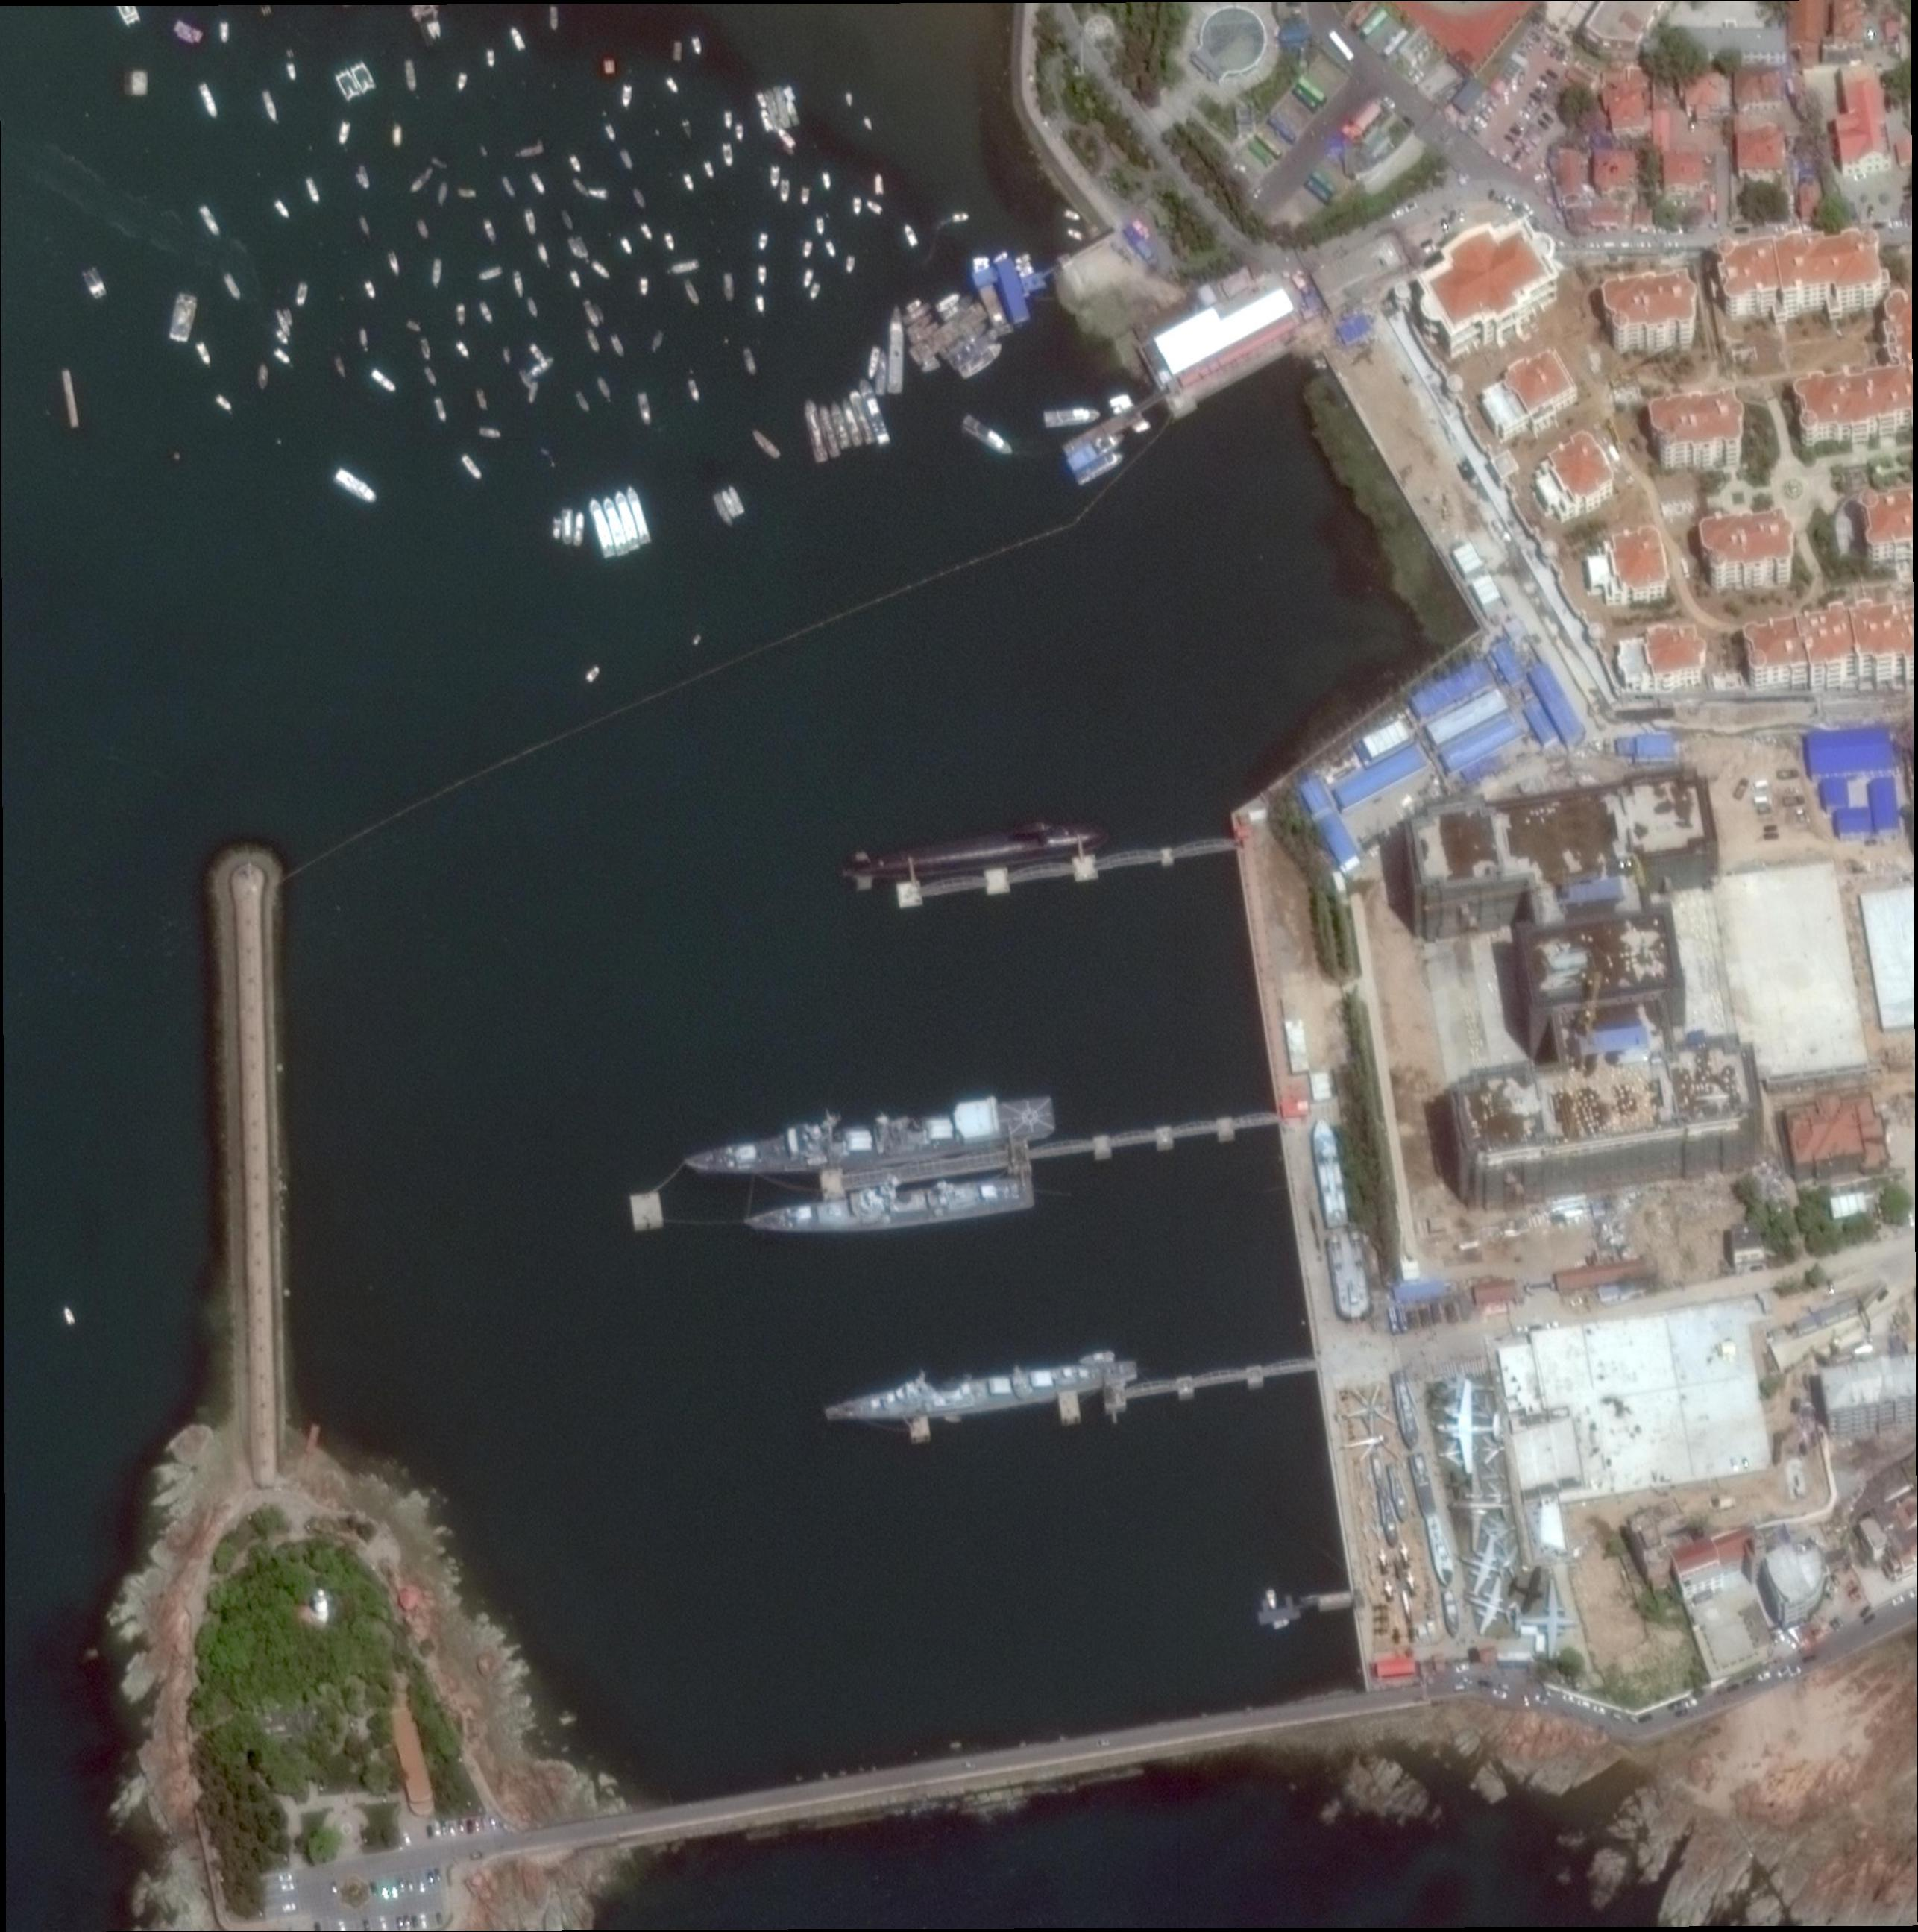harbor: (209, 838, 292, 1416), (818, 1103, 1280, 1198), (896, 831, 1237, 908), (1101, 1354, 1317, 1412), (1061, 390, 1166, 457)
plane: (1438, 1379, 1503, 1472), (1514, 1579, 1577, 1663), (1451, 1465, 1509, 1554), (1460, 1570, 1523, 1642), (1453, 1530, 1516, 1600), (1503, 1556, 1553, 1621)
ship: (683, 1096, 1056, 1191), (824, 1351, 1140, 1433), (841, 815, 1112, 894), (741, 1171, 1035, 1240), (1310, 1121, 1351, 1229), (1328, 1233, 1372, 1324), (959, 411, 1017, 460), (1066, 430, 1128, 472), (1424, 1512, 1458, 1588), (947, 327, 1001, 372), (1389, 1370, 1421, 1447), (857, 378, 890, 446), (957, 339, 1006, 381), (1073, 448, 1126, 487), (940, 321, 989, 362), (587, 495, 616, 559), (803, 397, 831, 464), (601, 495, 631, 555), (613, 490, 643, 550), (847, 388, 876, 448), (1409, 1453, 1437, 1516), (625, 485, 653, 544), (335, 469, 379, 506), (887, 306, 905, 393), (169, 292, 198, 342), (817, 404, 841, 458), (840, 399, 866, 448), (829, 399, 854, 450), (348, 60, 378, 97), (940, 292, 977, 321), (750, 430, 782, 460), (1043, 411, 1101, 427), (1442, 1591, 1461, 1637), (910, 318, 940, 346), (409, 165, 436, 197), (335, 68, 360, 102), (198, 81, 220, 119), (83, 267, 107, 299), (711, 492, 732, 527), (773, 86, 790, 128), (527, 355, 557, 379), (198, 205, 223, 235), (903, 302, 933, 327), (460, 453, 485, 481), (371, 369, 399, 393), (934, 290, 964, 313), (764, 90, 782, 128), (906, 313, 934, 335), (875, 351, 889, 395), (262, 90, 281, 121), (223, 272, 244, 300), (727, 485, 746, 515), (638, 392, 653, 427), (683, 278, 703, 306), (720, 490, 739, 518), (866, 346, 882, 379), (583, 299, 601, 328), (562, 509, 574, 546), (434, 395, 450, 423), (276, 307, 292, 335), (741, 346, 757, 374), (509, 26, 527, 51), (481, 218, 499, 242), (478, 300, 495, 325), (573, 511, 585, 546), (671, 260, 701, 274), (587, 327, 602, 353), (478, 265, 504, 281), (785, 100, 801, 126), (592, 260, 613, 279), (776, 128, 797, 148), (530, 172, 548, 195), (430, 258, 444, 286), (611, 334, 627, 358), (520, 144, 544, 160), (687, 378, 703, 402), (406, 60, 418, 91), (197, 341, 213, 365), (306, 177, 321, 202), (903, 223, 919, 248), (574, 392, 592, 413), (455, 339, 472, 360), (529, 341, 546, 362), (388, 249, 402, 276), (501, 174, 516, 197), (597, 376, 613, 399), (620, 149, 636, 172), (513, 269, 525, 297), (525, 295, 539, 320), (478, 427, 502, 441), (295, 281, 309, 306), (337, 121, 351, 146), (632, 188, 648, 209), (525, 209, 537, 235), (576, 235, 590, 258), (358, 214, 372, 237), (416, 218, 430, 241), (761, 109, 775, 132), (286, 51, 297, 81), (724, 272, 734, 302), (571, 177, 588, 195), (274, 348, 292, 365), (276, 200, 292, 220), (1063, 207, 1082, 223), (866, 198, 885, 214), (358, 327, 371, 351), (722, 142, 734, 167), (652, 330, 666, 351), (569, 237, 583, 258), (560, 209, 574, 230), (364, 279, 378, 300), (592, 302, 606, 323), (216, 395, 234, 411), (360, 163, 371, 190), (276, 328, 292, 346), (906, 299, 924, 314), (569, 153, 583, 172), (604, 123, 618, 142), (641, 221, 655, 241), (620, 237, 634, 256), (425, 365, 439, 385), (826, 239, 840, 258), (537, 242, 550, 263), (455, 302, 465, 327), (437, 183, 450, 204), (258, 365, 269, 390), (476, 388, 488, 409), (1266, 1590, 1279, 1611), (585, 666, 601, 681), (666, 77, 681, 93), (1066, 227, 1084, 241), (922, 360, 940, 374), (622, 86, 632, 109), (529, 381, 539, 404), (422, 337, 432, 360), (683, 172, 696, 191), (692, 37, 704, 56), (664, 232, 676, 251), (455, 74, 467, 93), (335, 357, 348, 376), (681, 118, 694, 137), (757, 232, 769, 251), (820, 170, 833, 190), (803, 269, 815, 288), (406, 320, 422, 334), (769, 167, 780, 188), (571, 270, 583, 288), (63, 1307, 76, 1324), (283, 307, 295, 325), (1013, 253, 1031, 265), (780, 179, 789, 204), (757, 91, 769, 109), (808, 283, 820, 300), (755, 295, 766, 314), (393, 125, 402, 148), (994, 251, 1008, 265), (520, 369, 532, 385), (1019, 267, 1035, 279), (673, 40, 681, 61), (803, 241, 813, 258), (952, 213, 970, 223), (875, 172, 883, 193), (552, 5, 559, 30), (817, 218, 826, 237), (854, 197, 862, 216), (1015, 262, 1031, 272), (704, 162, 715, 177), (845, 256, 855, 272), (221, 21, 228, 44), (504, 346, 513, 364), (801, 188, 810, 205), (736, 123, 745, 141), (553, 518, 560, 539), (864, 116, 875, 130), (641, 276, 648, 295), (488, 49, 495, 67), (725, 111, 732, 128), (759, 267, 766, 283), (847, 91, 854, 105)
